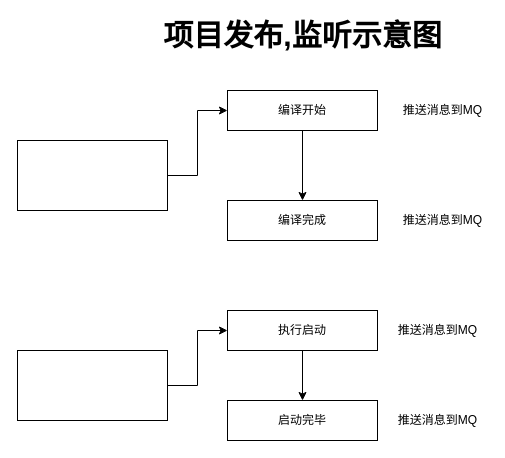
The diagram is 505 pixels wide and 458 high, and some of its shapes have lost their labels. Each missing label, with the box of its shape:
执行启动阶段: (16, 350, 168, 420)
执行编译阶段: (16, 140, 168, 210)
